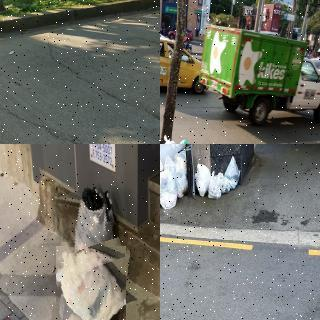Garbage: (53, 244, 128, 320), (58, 186, 119, 270), (160, 165, 179, 208), (222, 157, 242, 193), (193, 161, 211, 197), (209, 171, 223, 197), (160, 144, 175, 166), (161, 135, 179, 144)
